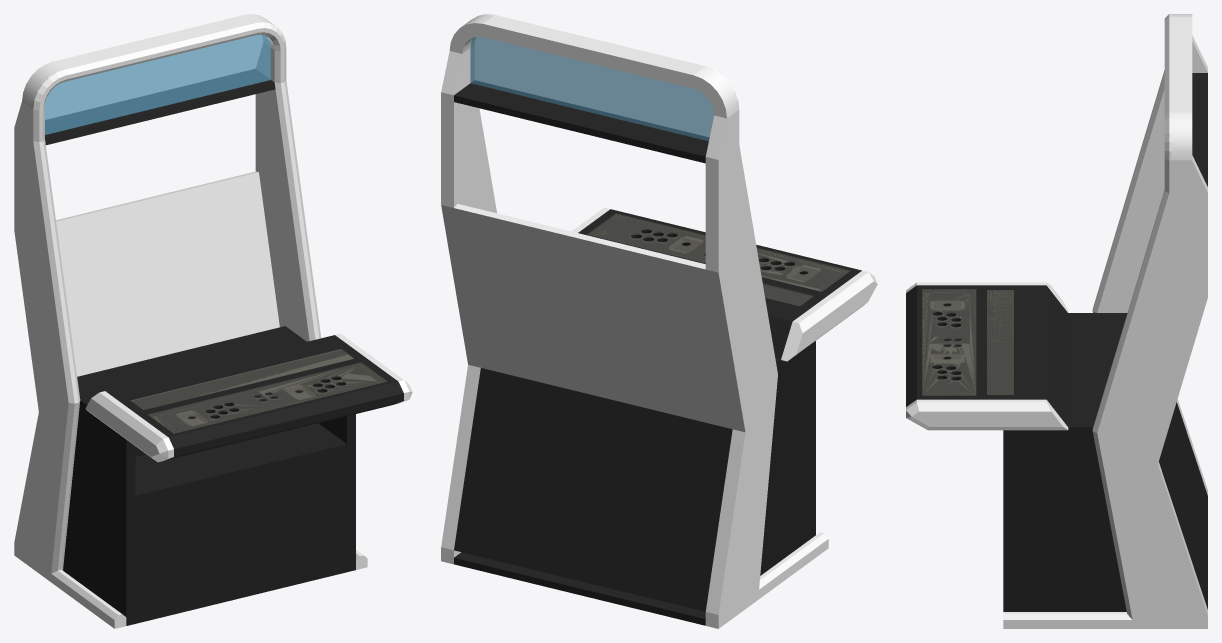
File: Vewlix.dae
3 views of the same model, side by side, from view 1: azimuth 30°, elevation 25°; view 2: azimuth 150°, elevation 25°; view 3: azimuth 270°, elevation 25° (orthographic). The views are drawn at different scales.
Parts seen in each view (by area): view 1: group_7, group_3 (×2), group_2, group_13, group_15, group_12, group_17 (×2), group_18 (×2), group_8, group_16, group_22, group_10 (+6 smaller); view 2: group_6, group_7, group_13, group_15, group_3, group_12, group_11, group_8, group_18 (×2), group_22, group_14, group_5 (+4 smaller); view 3: group_9, group_3, group_17 (×2), group_14, group_18 (×2), group_22, group_20, group_6, group_11, group_21, group_26, group_8 (+5 smaller).
Boxes of the visible parts, x1,y1,x2,y2 form: group_7: (56,171,279,376); group_3 (×2): (63,326,355,625); group_2: (135,454,346,613); group_13: (14,101,120,628); group_15: (45,34,270,134); group_12: (255,43,361,569); group_17 (×2): (105,335,366,414); group_18 (×2): (137,358,397,437); group_8: (45,69,275,145); group_16: (165,381,403,460); group_22: (148,363,386,432); group_10: (32,21,286,109); group_6: (454,368,732,611); group_7: (454,203,732,428); group_13: (712,110,828,628); group_15: (470,36,714,141); group_3: (760,341,815,575); group_12: (447,46,496,564); group_11: (449,15,737,118); group_8: (454,80,708,163); group_18 (×2): (578,209,861,295); group_22: (588,213,849,291); group_14: (705,115,821,627); group_5: (454,552,705,625); group_9: (1003,158,1207,628); group_3: (1003,313,1127,611); group_17 (×2): (981,285,1046,399); group_14: (1092,38,1207,495); group_18 (×2): (917,285,981,399); group_22: (922,289,975,395); group_20: (906,399,1068,430); group_6: (1159,402,1207,609); group_11: (1171,14,1192,160); group_21: (987,290,1013,394); group_26: (1046,286,1068,426); group_8: (1192,73,1207,186).
Bounding box in the file's own units: 32.53 × 32.99 × 60.44.
